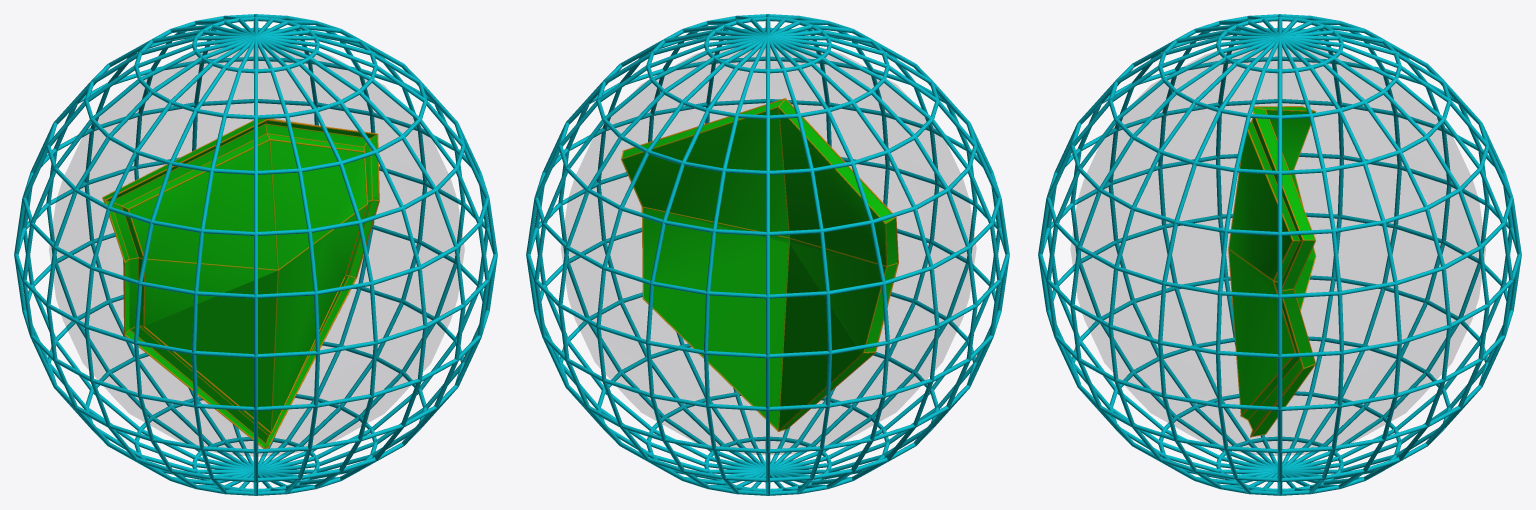
File: Shield_CyberCop20XX.fbx
3 views of the same model, side by side, from view 1: azimuth 30°, elevation 25°; view 2: azimuth 150°, elevation 25°; view 3: azimuth 270°, elevation 25° (orthographic).
Visible parts, largest first — view 1: Sphere, Sphere_1, Shield_1, Shield, Shield_1_2; view 2: Sphere, Sphere_1, Shield_1, Shield, Shield_1_2; view 3: Sphere_1, Sphere, Shield_1, Shield, Shield_1_2.
Part boxes in pixels (x1,y1,x2,y2): Sphere: (14,14,497,495); Sphere_1: (49,49,464,455); Shield_1: (103,119,378,333); Shield: (126,195,378,448); Shield_1_2: (102,118,379,448); Sphere: (526,14,1009,495); Sphere_1: (561,47,975,454); Shield_1: (622,99,897,354); Shield: (642,207,873,430); Shield_1_2: (621,98,898,431); Sphere_1: (1071,49,1485,455); Sphere: (1038,14,1521,495); Shield_1: (1229,107,1315,288); Shield: (1229,250,1314,436); Shield_1_2: (1228,106,1316,437).
Bounding box in the file's own units: 65.6 × 65.6 × 65.6.
